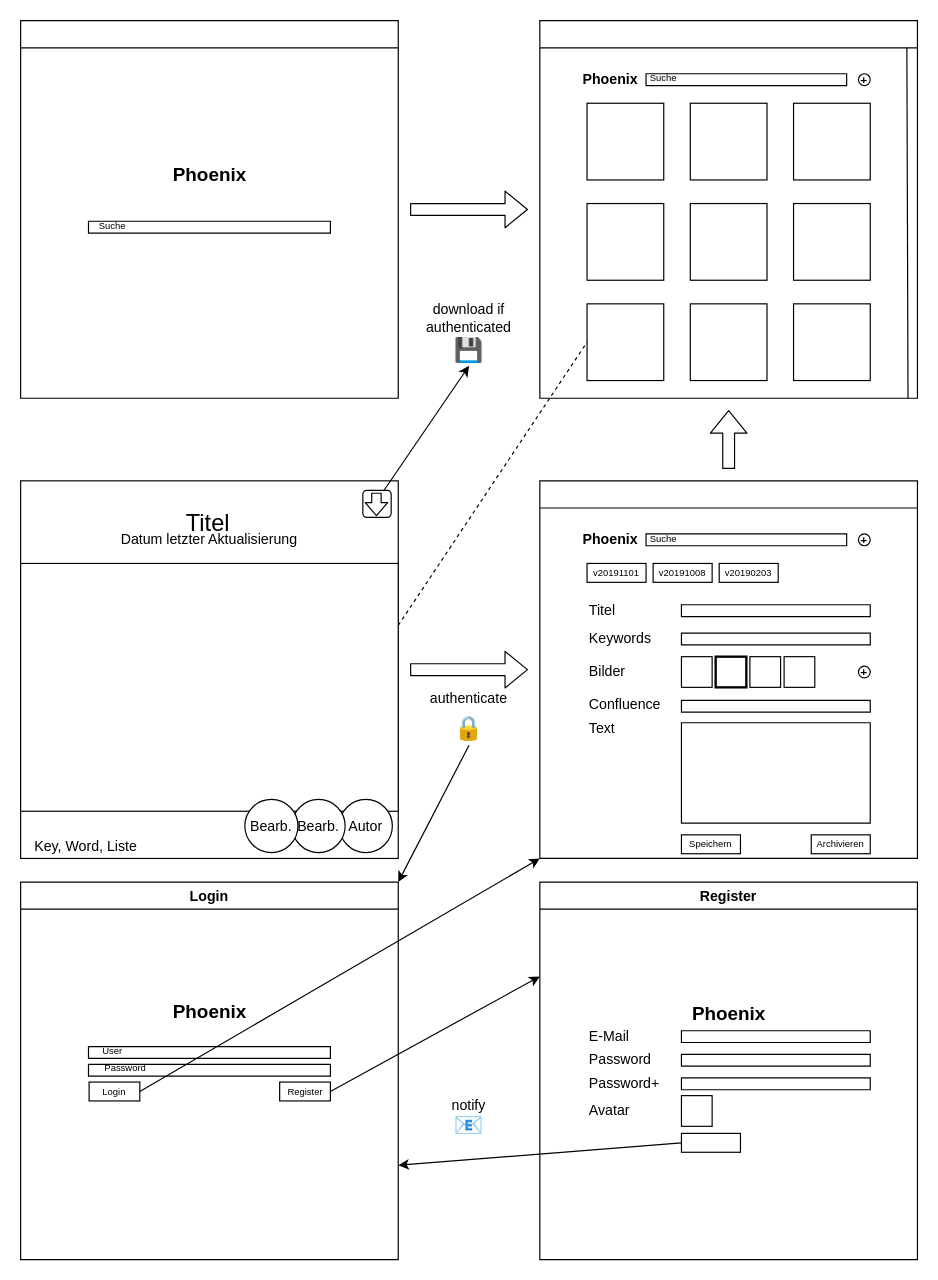
The diagram is 938 pixels wide and 1280 high, and some of its shapes have lost their labels. The shapes that lost their labels are listed below. From the top down, each one's box as (x1, y1, x2, y2) in pixels, then its label:
(19, 19, 398, 398): Home
(539, 19, 917, 398): Result
(19, 562, 398, 811): Bild oder Text-Ausschnitt
(539, 480, 917, 858): Detail
(680, 1132, 740, 1152): Registrieren
